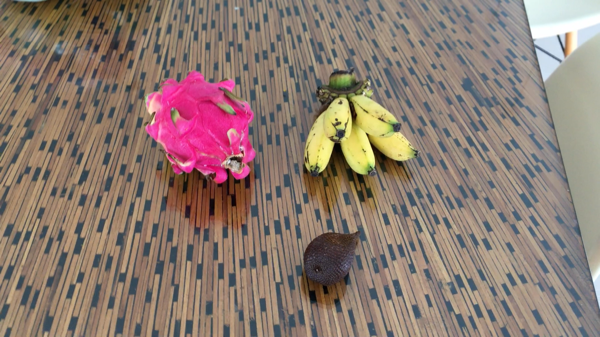banana: (303, 70, 419, 179)
dragon fruit: (144, 72, 259, 189)
snake fruit: (302, 231, 363, 286)
